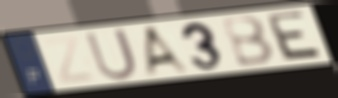3: (179, 20, 231, 73)
A: (143, 23, 195, 77)
B: (218, 14, 279, 69)
E: (265, 9, 327, 62)
U: (82, 26, 140, 82)
Z: (39, 33, 100, 86)
